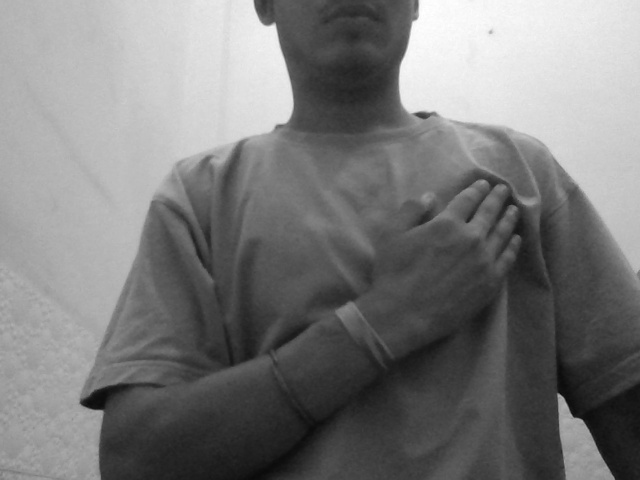Sorry: (356, 161, 552, 369)
